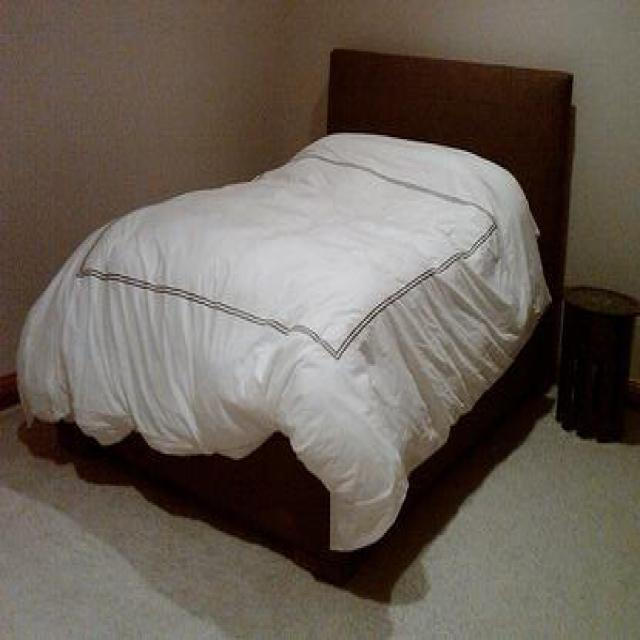bed: (18, 47, 576, 602)
